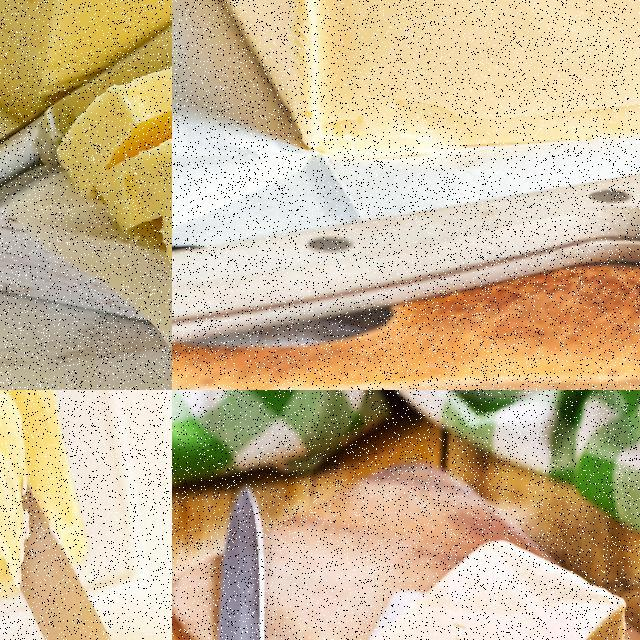Butter: (172, 0, 639, 201), (55, 10, 171, 342), (325, 534, 629, 639), (0, 390, 89, 636), (0, 0, 171, 122)
